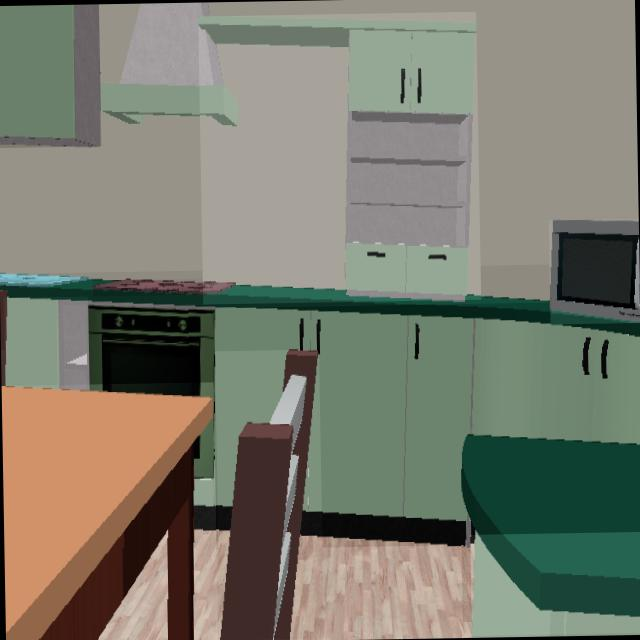cabinet: (191, 309, 640, 545), (198, 17, 476, 300), (472, 535, 640, 636), (0, 4, 99, 146), (5, 298, 89, 389)
chair: (220, 350, 319, 640)
countertop: (0, 274, 640, 338), (460, 435, 640, 618)
microwave: (550, 220, 640, 322)
oven: (88, 307, 215, 479)
stove: (92, 280, 234, 294)
table: (1, 386, 214, 640)
